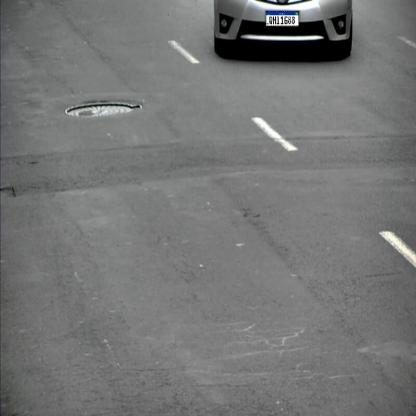PlacaM: (266, 11, 299, 26)
